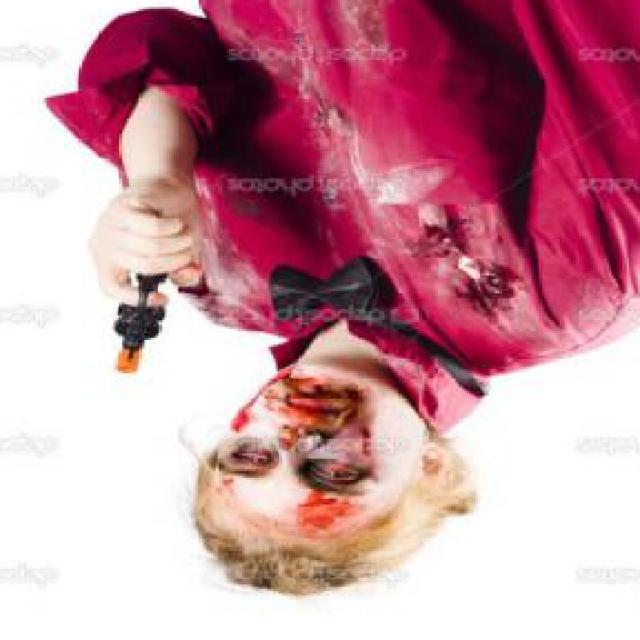pistol: (90, 250, 169, 378)
